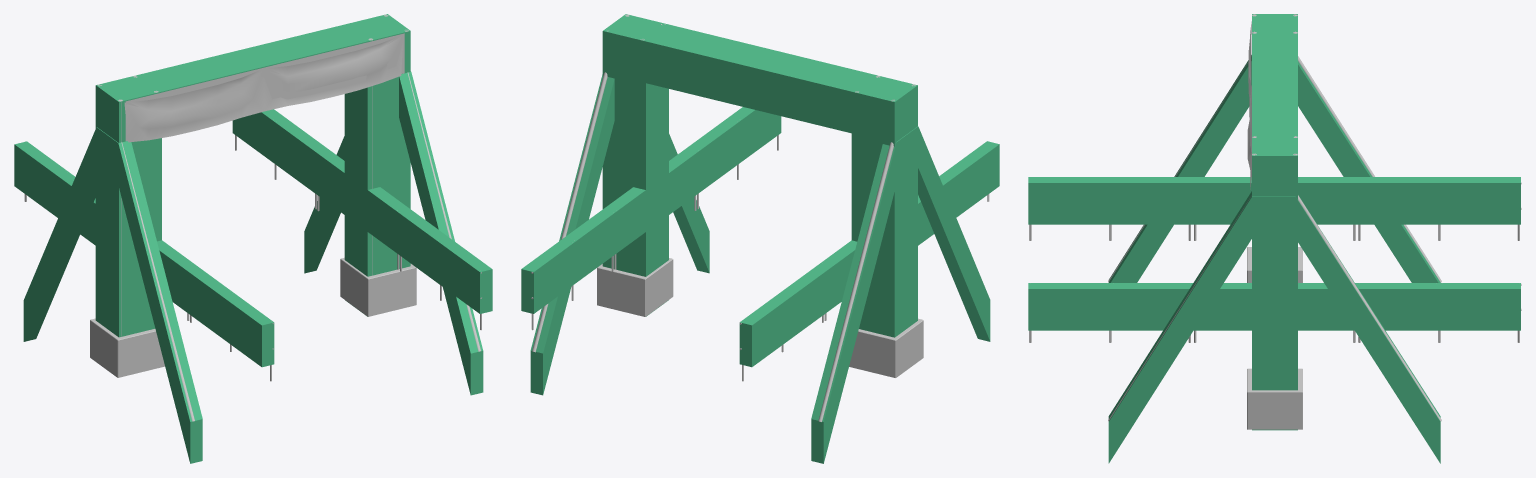
File: race_rally_gate.dae
3 views of the same model, side by side, from view 1: azimuth 30°, elevation 25°; view 2: azimuth 150°, elevation 25°; view 3: azimuth 270°, elevation 25° (orthographic).
Parts seen in each view (by area): view 1: Colmesh-1, ind_bld_a500, ind_bld_a30, ind_bld_a150; view 2: Colmesh-1, ind_bld_a500, ind_bld_a150; view 3: Colmesh-1, ind_bld_a500, ind_bld_a150.
Part boxes in pixels (x1,y1,x2,y2): Colmesh-1: (14, 14, 492, 463); ind_bld_a500: (24, 14, 481, 421); ind_bld_a30: (125, 33, 404, 141); ind_bld_a150: (90, 15, 414, 375); Colmesh-1: (521, 14, 999, 463); ind_bld_a500: (531, 14, 989, 421); ind_bld_a150: (532, 15, 922, 376); Colmesh-1: (1028, 14, 1520, 463); ind_bld_a500: (1029, 14, 1521, 429); ind_bld_a150: (1248, 14, 1302, 429).
Bounding box in the file's own units: 8.36 × 12 × 8.26.
